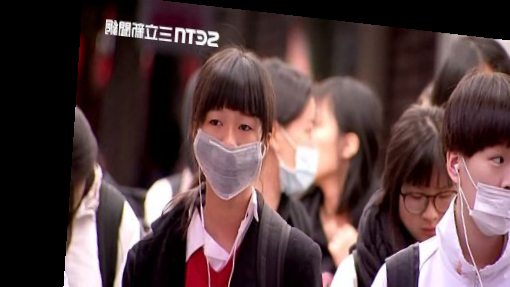mask_weared_incorrect: (188, 44, 280, 205)
